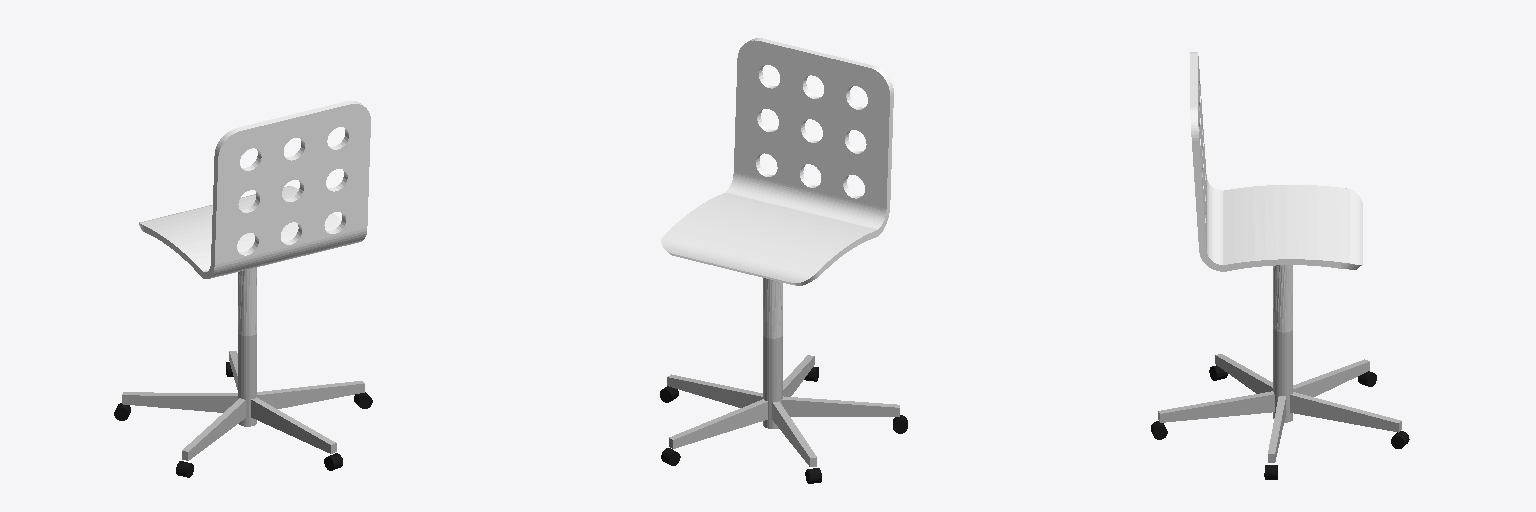
3 renders of one model, left to right at view 1: azimuth 30°, elevation 25°; view 2: azimuth 150°, elevation 25°; view 3: azimuth 270°, elevation 25°, orthographic.
Parts seen in each view (by area): view 1: Mesh1 Group2 Group1 Model, Mesh12 Group3 ske3F1 Group1 Model, Mesh7 Group6 Group3 ske3F1 Group1 Model, Mesh11 Group8 Group3 ske3F1 Group1 Model, Mesh5 Group5 Group3 ske3F1 Group1 Model, Mesh9 Group7 Group3 ske3F1 Group1 Model; view 2: Mesh1 Group2 Group1 Model, Mesh12 Group3 ske3F1 Group1 Model, Mesh9 Group7 Group3 ske3F1 Group1 Model, Mesh3 Group4 Group3 ske3F1 Group1 Model, Mesh11 Group8 Group3 ske3F1 Group1 Model, Mesh7 Group6 Group3 ske3F1 Group1 Model, Mesh5 Group5 Group3 ske3F1 Group1 Model; view 3: Mesh1 Group2 Group1 Model, Mesh12 Group3 ske3F1 Group1 Model, Mesh5 Group5 Group3 ske3F1 Group1 Model, Mesh3 Group4 Group3 ske3F1 Group1 Model, Mesh7 Group6 Group3 ske3F1 Group1 Model, Mesh9 Group7 Group3 ske3F1 Group1 Model, Mesh11 Group8 Group3 ske3F1 Group1 Model.
Part boxes in pixels (x1,y1,x2,y2): Mesh1 Group2 Group1 Model: (139, 101, 370, 278); Mesh12 Group3 ske3F1 Group1 Model: (238, 267, 256, 426); Mesh7 Group6 Group3 ske3F1 Group1 Model: (122, 392, 237, 412); Mesh11 Group8 Group3 ske3F1 Group1 Model: (257, 381, 364, 408); Mesh5 Group5 Group3 ske3F1 Group1 Model: (251, 397, 336, 453); Mesh9 Group7 Group3 ske3F1 Group1 Model: (182, 398, 245, 460); Mesh1 Group2 Group1 Model: (661, 38, 893, 285); Mesh12 Group3 ske3F1 Group1 Model: (763, 278, 782, 428); Mesh9 Group7 Group3 ske3F1 Group1 Model: (782, 396, 899, 416); Mesh3 Group4 Group3 ske3F1 Group1 Model: (669, 399, 767, 448); Mesh11 Group8 Group3 ske3F1 Group1 Model: (667, 374, 762, 407); Mesh7 Group6 Group3 ske3F1 Group1 Model: (772, 401, 816, 466); Mesh5 Group5 Group3 ske3F1 Group1 Model: (783, 355, 814, 396); Mesh1 Group2 Group1 Model: (1190, 52, 1362, 271); Mesh12 Group3 ske3F1 Group1 Model: (1273, 265, 1292, 422); Mesh5 Group5 Group3 ske3F1 Group1 Model: (1158, 391, 1274, 422); Mesh3 Group4 Group3 ske3F1 Group1 Model: (1290, 392, 1401, 432); Mesh7 Group6 Group3 ske3F1 Group1 Model: (1293, 359, 1369, 396); Mesh9 Group7 Group3 ske3F1 Group1 Model: (1215, 354, 1272, 393); Mesh11 Group8 Group3 ske3F1 Group1 Model: (1268, 396, 1285, 462).
Bounding box in the file's own units: 0.5379 × 0.8082 × 0.5488.